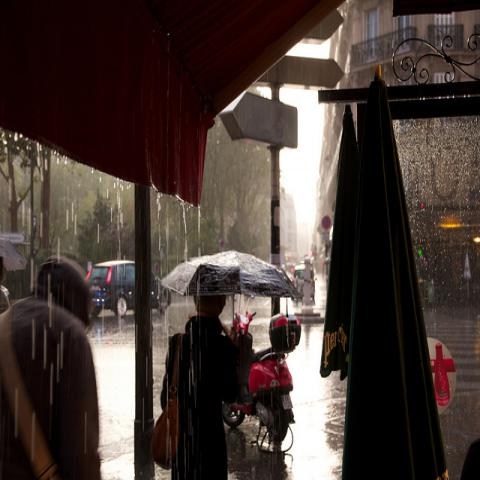car: (85, 257, 174, 318), (291, 262, 315, 298), (304, 255, 310, 265)
motorcycle: (220, 294, 301, 448)
